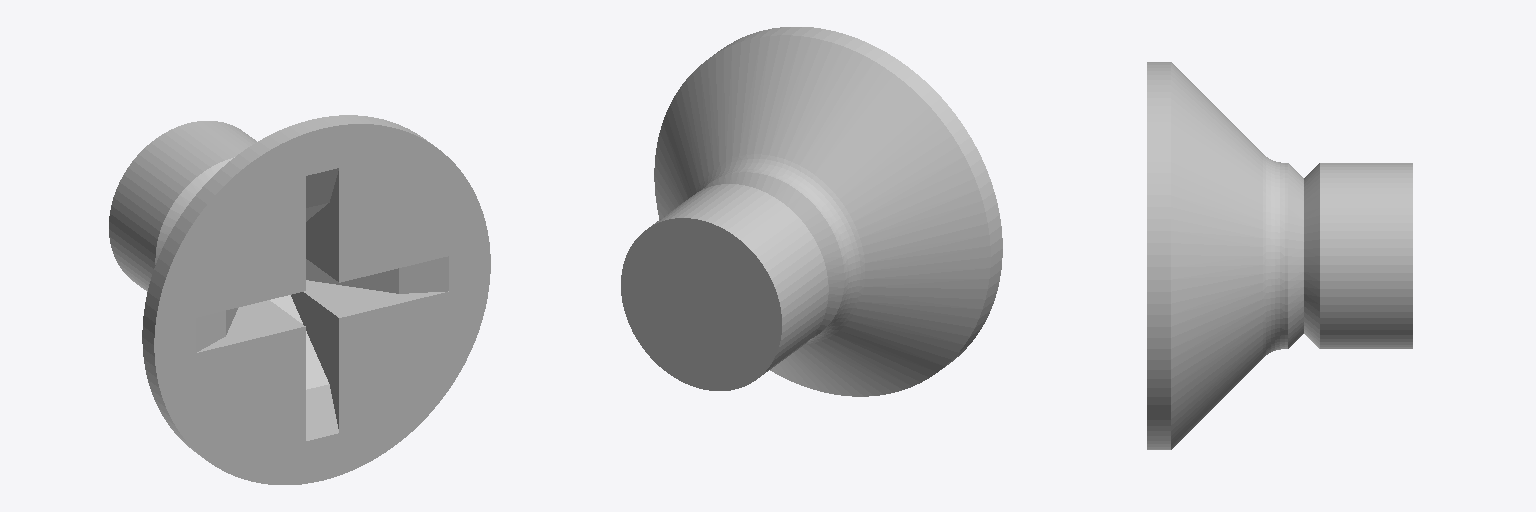
The model's file is case_ISO 7046-2 H - M3.5x5 - 8.8 - H1.obj.
3 renders of one model, left to right at view 1: azimuth 30°, elevation 25°; view 2: azimuth 150°, elevation 25°; view 3: azimuth 270°, elevation 25°, orthographic.
Visible parts, largest first — view 1: Solid1:2; view 2: Solid1:2; view 3: Solid1:2.
Boxes of the visible parts, x1=… form: Solid1:2: x1=109, y1=115, x2=490, y2=484; Solid1:2: x1=621, y1=27, x2=1002, y2=396; Solid1:2: x1=1147, y1=62, x2=1412, y2=449.
Size of the model in its own units: 0.0073 by 0.0073 by 0.005.